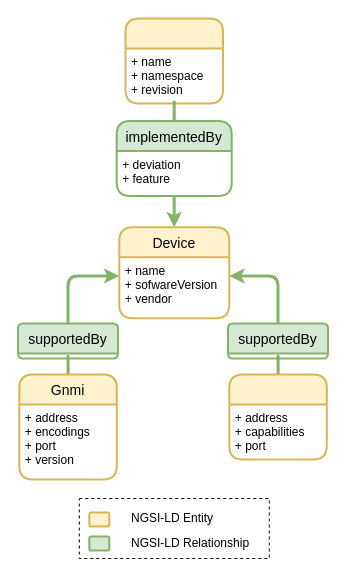
This 346x576 diagram has some shape labels left out. The shapes that lost their labels are listed below. From the top down, each one's box as (x1, y1, x2, y2) in pixels, then its label:
(124, 17, 224, 104): Module
(228, 373, 327, 460): Netconf
